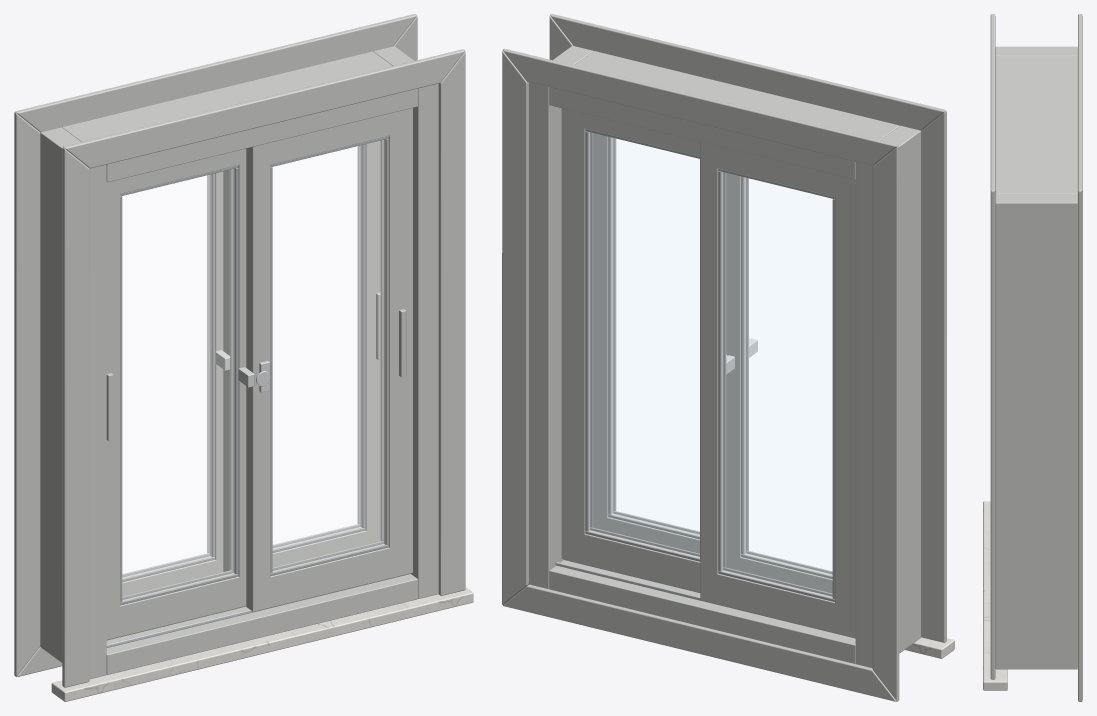
Rendered from mk_win_kitchen.glb.
3 views of the same model, side by side, from view 1: azimuth 30°, elevation 25°; view 2: azimuth 150°, elevation 25°; view 3: azimuth 270°, elevation 25° (orthographic). The views are drawn at different scales.
Parts seen in each view (by area): view 1: mk_win_kitchen_glass, mk_win_kitchen_casing, mk_win_kitchen_frame, mk_win_kitchen_sash_inner_r, mk_win_kitchen_sash_inner_l, mk_win_kitchen_sash_outer_r, mk_win_kitchen_sash_outer_l, mk_win_kitchen_sill, mk_win_kitchen_hardware; view 2: mk_win_kitchen_glass, mk_win_kitchen_casing, mk_win_kitchen_frame, mk_win_kitchen_sash_outer_l, mk_win_kitchen_sash_outer_r, mk_win_kitchen_sash_inner_r, mk_win_kitchen_sash_inner_l, mk_win_kitchen_sill; view 3: mk_win_kitchen_frame, mk_win_kitchen_casing, mk_win_kitchen_sill.
Part boxes in pixels (box(x1,y1,x2,y2)): mk_win_kitchen_glass: box(122, 140, 385, 600); mk_win_kitchen_casing: box(14, 14, 465, 687); mk_win_kitchen_frame: box(40, 46, 438, 678); mk_win_kitchen_sash_inner_r: box(246, 108, 412, 611); mk_win_kitchen_sash_inner_l: box(106, 148, 246, 639); mk_win_kitchen_sash_outer_r: box(223, 140, 380, 571); mk_win_kitchen_sash_outer_l: box(122, 171, 223, 596); mk_win_kitchen_sill: box(51, 587, 473, 701); mk_win_kitchen_hardware: box(106, 292, 406, 441); mk_win_kitchen_glass: box(589, 132, 832, 597); mk_win_kitchen_casing: box(502, 14, 946, 701); mk_win_kitchen_frame: box(528, 45, 921, 668); mk_win_kitchen_sash_outer_l: box(700, 142, 855, 637); mk_win_kitchen_sash_outer_r: box(561, 108, 700, 592); mk_win_kitchen_sash_inner_r: box(593, 133, 699, 553); mk_win_kitchen_sash_inner_l: box(726, 173, 832, 593); mk_win_kitchen_sill: box(905, 637, 954, 658); mk_win_kitchen_frame: box(995, 46, 1077, 669); mk_win_kitchen_casing: box(990, 14, 1082, 701); mk_win_kitchen_sill: box(983, 501, 1007, 690).
Bounding box in the file's own units: 1.04 × 1.37 × 0.242.
6 materials, 1 textured.
